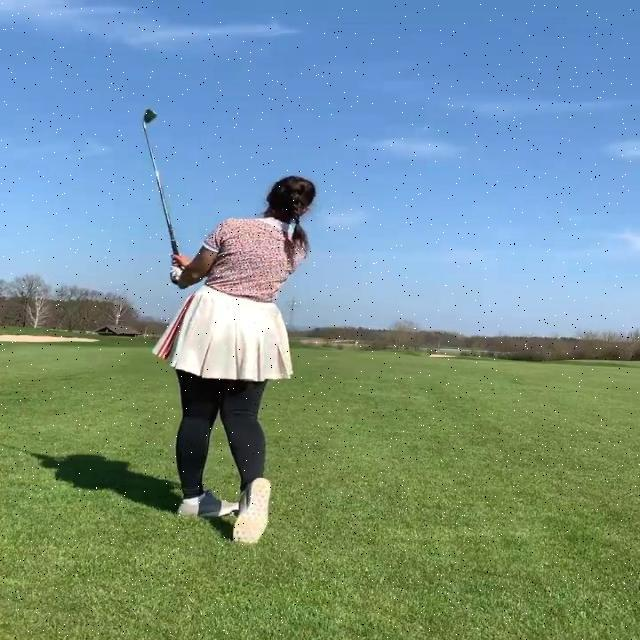ClubHandle: (143, 109, 179, 254)
ClubHead: (142, 109, 157, 124)
